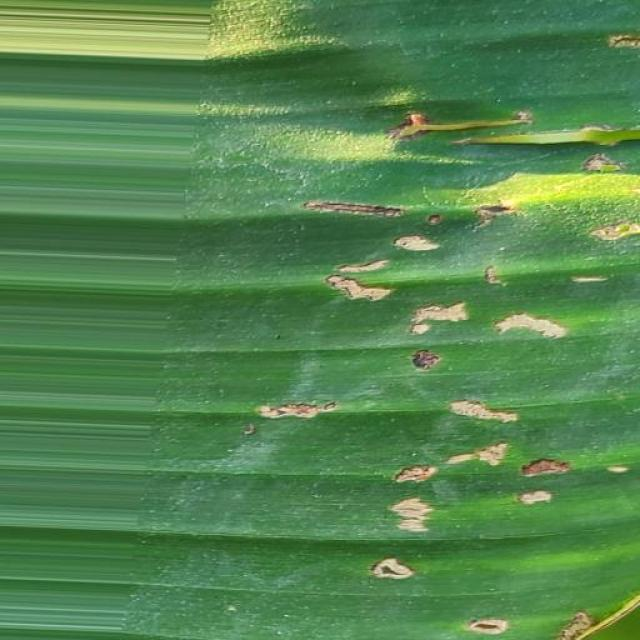Black_rot: (226, 51, 640, 640)
